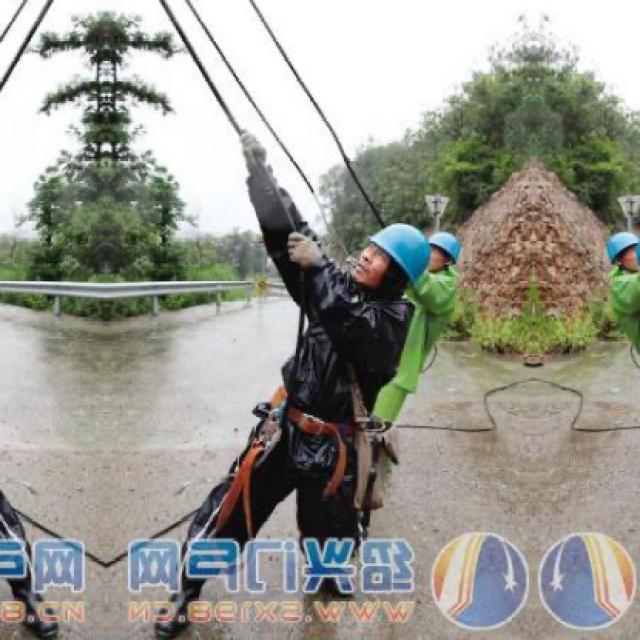helmet: (352, 217, 436, 297), (600, 228, 640, 280), (426, 229, 466, 280)
